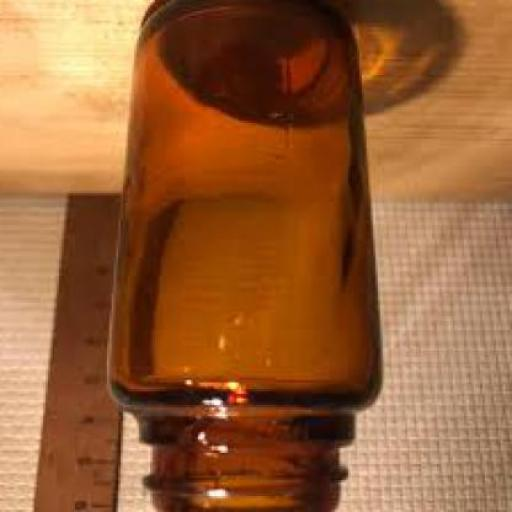glass: (108, 2, 386, 511)
